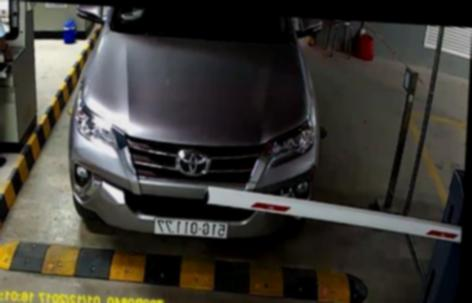License_Plate: (152, 217, 229, 238)
